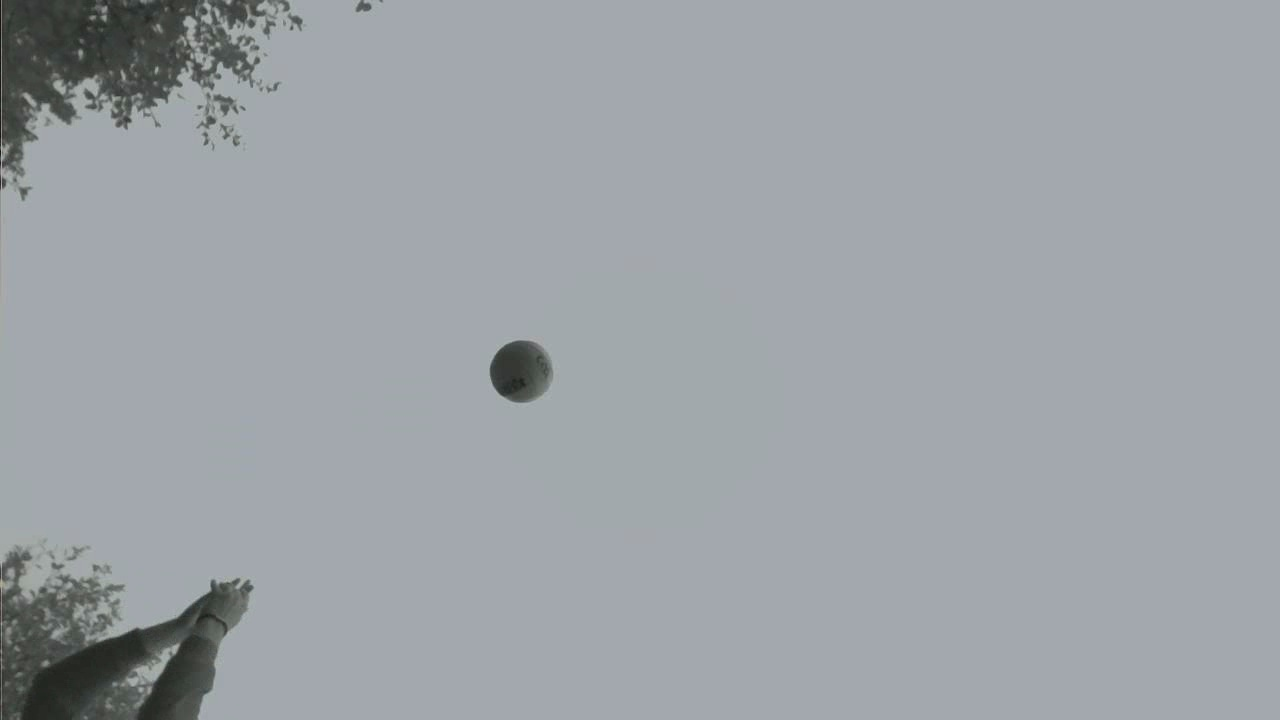Football-Spotter: (492, 342, 553, 401)
